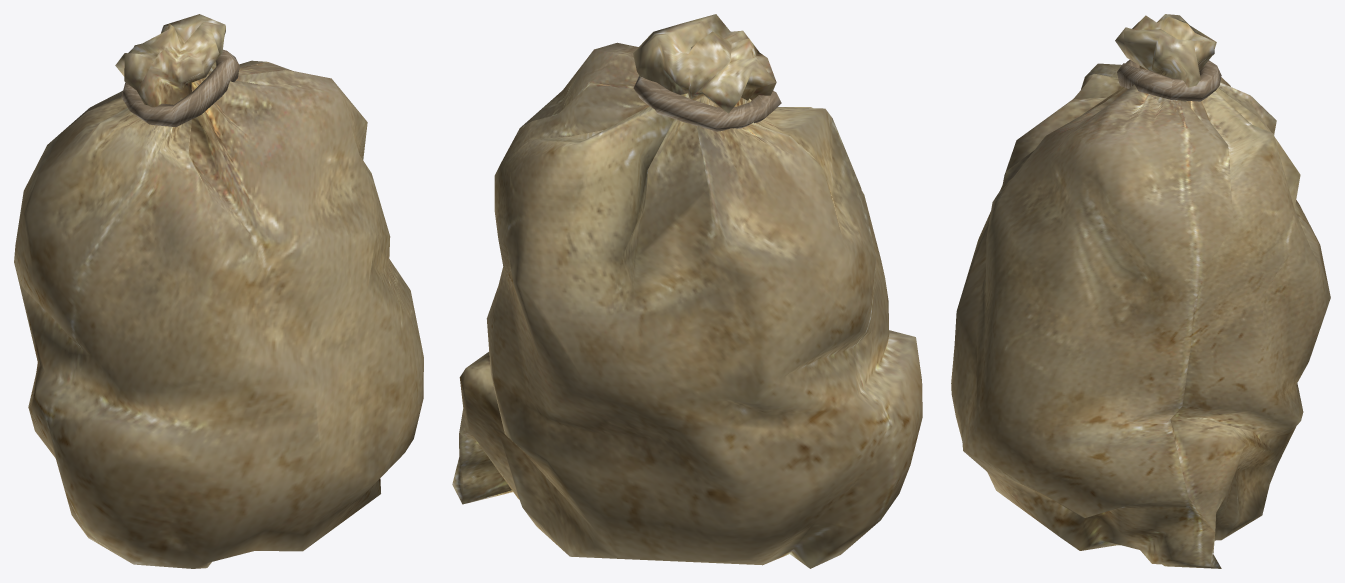
File: SM_Fabric_Sack4.FBX
3 views of the same model, side by side, from view 1: azimuth 30°, elevation 25°; view 2: azimuth 150°, elevation 25°; view 3: azimuth 270°, elevation 25° (orthographic). The views are drawn at different scales.
Visible parts, largest first — view 1: FabricSack4; view 2: FabricSack4; view 3: FabricSack4.
Boxes of the visible parts, box(x1,y1,x2,y2) form: FabricSack4: box(14, 14, 423, 568); FabricSack4: box(452, 14, 922, 568); FabricSack4: box(951, 14, 1330, 568).
Bounding box in the file's own units: 60.75 × 75.3 × 56.02.
1 material, 1 textured.
